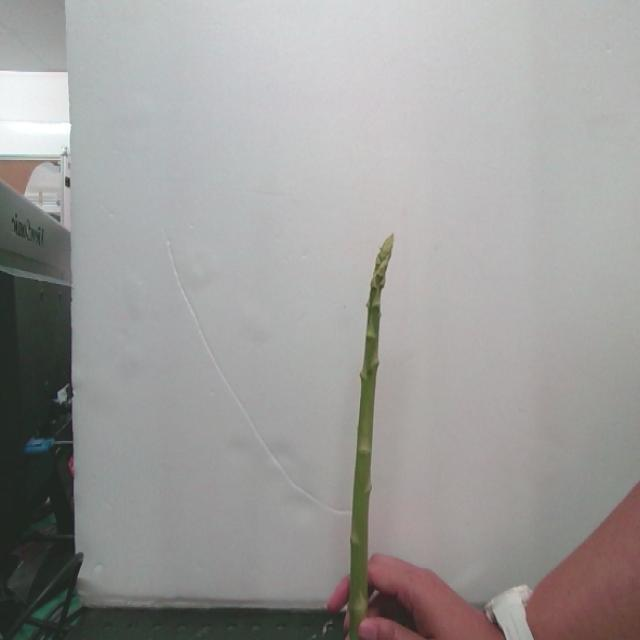aspargus: (345, 238, 395, 640)
